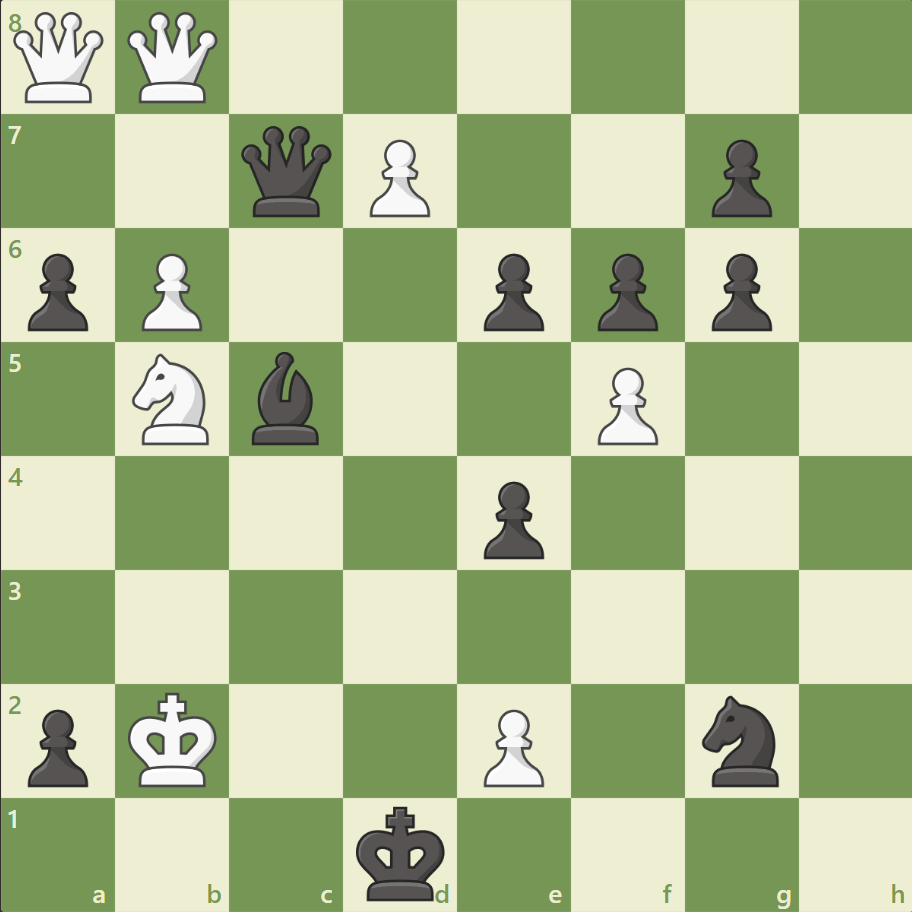K: (124, 685, 224, 793)
N: (124, 348, 222, 450)
P: (133, 246, 208, 337), (474, 700, 549, 791), (361, 132, 435, 223), (588, 359, 662, 450)
Q: (10, 9, 109, 108), (124, 9, 223, 108)
b: (244, 347, 328, 449)
k: (351, 798, 451, 906)
n: (692, 688, 789, 791)
p: (701, 132, 776, 223), (20, 246, 95, 337), (474, 246, 549, 337), (701, 246, 776, 337), (474, 473, 549, 564), (20, 700, 95, 791), (588, 246, 662, 337)
q: (237, 122, 336, 222)
